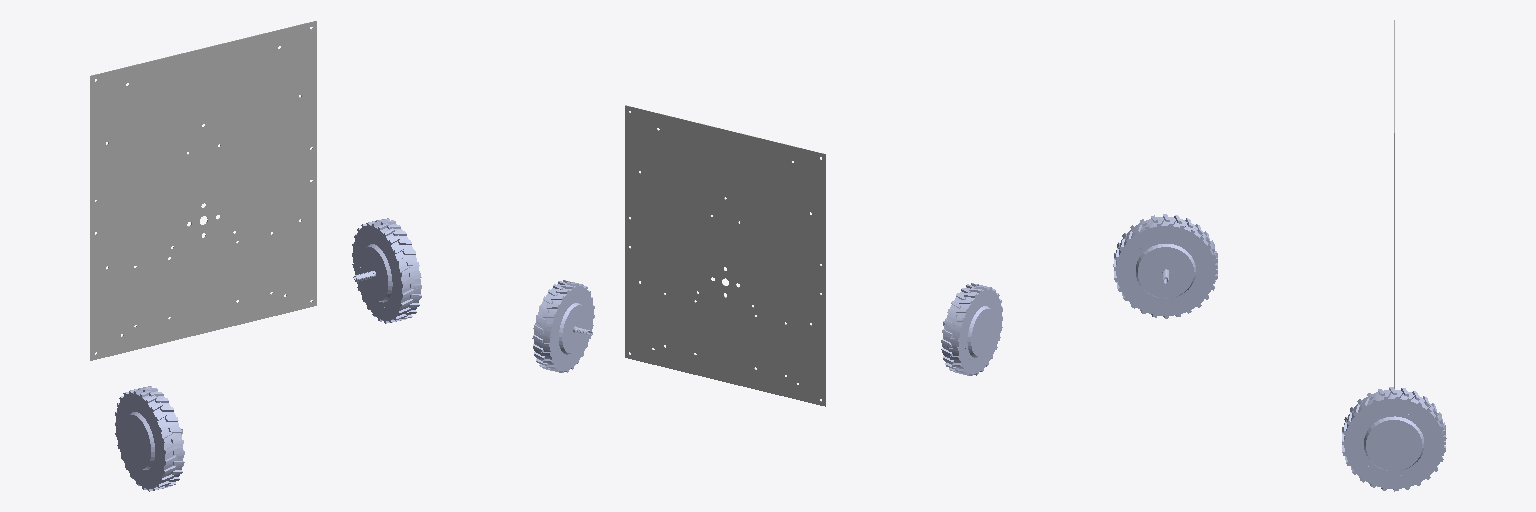
robot.urdf — mesh_test_7:
<?xml version="1.0" encoding="utf-8"?>
<!-- This URDF was automatically created by SolidWorks to URDF Exporter! Originally created by [author] ([email redacted]) 
     Commit Version: 1.6.0-4-g7f85cfe  Build Version: 1.6.7995.38578
     For more information, please see http://wiki.ros.org/sw_urdf_exporter -->
<robot
  name="mesh_test_7">
  <link
    name="base_link">
    <inertial>
      <origin
        xyz="0.000588788773926229 0.0122317358709771 -0.153898444327755"
        rpy="0 0 0" />
      <mass
        value="16.1271081482137" />
      <inertia
        ixx="0.114127397741912"
        ixy="0.00083531692981623"
        ixz="2.92573931319018E-08"
        iyy="0.104928778013587"
        iyz="-0.00077219586059954"
        izz="0.179857990541361" />
    </inertial>
    <visual>
      <origin
        xyz="0 0 0"
        rpy="0 0 0" />
      <geometry>
        <mesh
          filename="package://mesh_test_7/meshes/base_link.STL" />
      </geometry>
      <material
        name="">
        <color
          rgba="0.752941176470588 0.752941176470588 0.752941176470588 1" />
      </material>
    </visual>
    <collision>
      <origin
        xyz="0 0 0"
        rpy="0 0 0" />
      <geometry>
        <mesh
          filename="package://mesh_test_7/meshes/base_link.STL" />
      </geometry>
    </collision>
  </link>
  <link
    name="left_rear_wheel_link">
    <inertial>
      <origin
        xyz="0.000118305531412455 -5.65586319872802E-06 -2.13247584311405E-05"
        rpy="0 0 0" />
      <mass
        value="1.38515667925412" />
      <inertia
        ixx="0.00608670649415379"
        ixy="-1.30467261717638E-10"
        ixz="5.01634427641624E-08"
        iyy="0.00331734803830799"
        iyz="5.84204524782227E-11"
        izz="0.00331733096263903" />
    </inertial>
    <visual>
      <origin
        xyz="0 0 0"
        rpy="0 0 0" />
      <geometry>
        <mesh
          filename="package://mesh_test_7/meshes/left_rear_wheel_link.STL" />
      </geometry>
      <material
        name="">
        <color
          rgba="0.792156862745098 0.819607843137255 0.933333333333333 1" />
      </material>
    </visual>
    <collision>
      <origin
        xyz="0 0 0"
        rpy="0 0 0" />
      <geometry>
        <mesh
          filename="package://mesh_test_7/meshes/left_rear_wheel_link.STL" />
      </geometry>
    </collision>
  </link>
  <joint
    name="left_rear_wheel_joint"
    type="continuous">
    <origin
      xyz="-0.410080546831399 0.431805633687278 -0.266679314193787"
      rpy="0 0 0" />
    <parent
      link="base_link" />
    <child
      link="left_rear_wheel_link" />
    <axis
      xyz="-1 0 0" />
  </joint>
  <link
    name="right_rear_wheel_link">
    <inertial>
      <origin
        xyz="-0.000118305531397134 0.00763560125671886 0.0230472900127958"
        rpy="0 0 0" />
      <mass
        value="1.38515667925022" />
      <inertia
        ixx="0.00608670649414288"
        ixy="-1.51613486834789E-10"
        ixz="-5.01382976676539E-08"
        iyy="0.00331734776436555"
        iyz="-1.68192191419617E-11"
        izz="0.00331733123657076" />
    </inertial>
    <visual>
      <origin
        xyz="0 0 0"
        rpy="0 0 0" />
      <geometry>
        <mesh
          filename="package://mesh_test_7/meshes/right_rear_wheel_link.STL" />
      </geometry>
      <material
        name="">
        <color
          rgba="0.792156862745098 0.819607843137255 0.933333333333333 1" />
      </material>
    </visual>
    <collision>
      <origin
        xyz="0 0 0"
        rpy="0 0 0" />
      <geometry>
        <mesh
          filename="package://mesh_test_7/meshes/right_rear_wheel_link.STL" />
      </geometry>
    </collision>
  </link>
  <joint
    name="right_rear_wheel_joint"
    type="continuous">
    <origin
      xyz="0.410144046831401 0.424164395078577 -0.289747837637522"
      rpy="0 0 0" />
    <parent
      link="base_link" />
    <child
      link="right_rear_wheel_link" />
    <axis
      xyz="1 0 0" />
  </joint>
  <link
    name="left_middle_wheel_link">
    <inertial>
      <origin
        xyz="0.000118305531389418 -6.06477609237434E-06 -2.11493139803953E-05"
        rpy="0 0 0" />
      <mass
        value="1.38515667924975" />
      <inertia
        ixx="0.00608670649414168"
        ixy="3.79376286142206E-08"
        ixz="3.27726783483486E-08"
        iyy="0.00331733834943749"
        iyz="-8.20130896084035E-09"
        izz="0.00331734065149748" />
    </inertial>
    <visual>
      <origin
        xyz="0 0 0"
        rpy="0 0 0" />
      <geometry>
        <mesh
          filename="package://mesh_test_7/meshes/left_middle_wheel_link.STL" />
      </geometry>
      <material
        name="">
        <color
          rgba="0.792156862745098 0.819607843137255 0.933333333333333 1" />
      </material>
    </visual>
    <collision>
      <origin
        xyz="0 0 0"
        rpy="0 0 0" />
      <geometry>
        <mesh
          filename="package://mesh_test_7/meshes/left_middle_wheel_link.STL" />
      </geometry>
    </collision>
  </link>
  <joint
    name="left_middle_wheel_joint"
    type="continuous">
    <origin
      xyz="-0.410080546831395 0 -0.266679294969506"
      rpy="0 0 0" />
    <parent
      link="base_link" />
    <child
      link="left_middle_wheel_link" />
    <axis
      xyz="-1 0 0" />
  </joint>
  <link
    name="right_middle_wheel_link">
    <inertial>
      <origin
        xyz="-0.000118305531424778 0.0076351878226019 0.0230474792859071"
        rpy="0 0 0" />
      <mass
        value="1.38515667925641" />
      <inertia
        ixx="0.00608670649415985"
        ixy="-3.81060675116995E-08"
        ixz="-3.26231551854049E-08"
        iyy="0.00331733827450242"
        iyz="-8.4376695077452E-09"
        izz="0.00331734072645102" />
    </inertial>
    <visual>
      <origin
        xyz="0 0 0"
        rpy="0 0 0" />
      <geometry>
        <mesh
          filename="package://mesh_test_7/meshes/right_middle_wheel_link.STL" />
      </geometry>
      <material
        name="">
        <color
          rgba="0.792156862745098 0.819607843137255 0.933333333333333 1" />
      </material>
    </visual>
    <collision>
      <origin
        xyz="0 0 0"
        rpy="0 0 0" />
      <geometry>
        <mesh
          filename="package://mesh_test_7/meshes/right_middle_wheel_link.STL" />
      </geometry>
    </collision>
  </link>
  <joint
    name="right_middle_wheel_joint"
    type="continuous">
    <origin
      xyz="0.410144046831401 -0.00763560526423259 -0.289747837561235"
      rpy="0 0 0" />
    <parent
      link="base_link" />
    <child
      link="right_middle_wheel_link" />
    <axis
      xyz="1 0 0" />
  </joint>
  <link
    name="left_front_wheel_link">
    <inertial>
      <origin
        xyz="0.000155212043928044 -2.36124552175365E-05 4.13306403687641E-05"
        rpy="0 0 0" />
      <mass
        value="1.38515667925253" />
      <inertia
        ixx="0.00608670649414915"
        ixy="-1.51546150587952E-10"
        ixz="5.01389386245157E-08"
        iyy="0.00331734776435004"
        iyz="1.79208088882012E-11"
        izz="0.00331733123659271" />
    </inertial>
    <visual>
      <origin
        xyz="0 0 0"
        rpy="0 0 0" />
      <geometry>
        <mesh
          filename="package://mesh_test_7/meshes/left_front_wheel_link.STL" />
      </geometry>
      <material
        name="">
        <color
          rgba="0.792156862745098 0.819607843137255 0.933333333333333 1" />
      </material>
    </visual>
    <collision>
      <origin
        xyz="0 0 0"
        rpy="0 0 0" />
      <geometry>
        <mesh
          filename="package://mesh_test_7/meshes/left_front_wheel_link.STL" />
      </geometry>
    </collision>
  </link>
  <joint
    name="left_front_wheel_joint"
    type="continuous">
    <origin
      xyz="-0.372017453168602 -0.435014123947829 -0.267622490828346"
      rpy="0 0 0" />
    <parent
      link="base_link" />
    <child
      link="left_front_wheel_link" />
    <axis
      xyz="1 0 0" />
  </joint>
  <link
    name="right_front_wheel_link">
    <inertial>
      <origin
        xyz="-0.000118305531394081 0.0240239803189892 -0.0485832527049723"
        rpy="0 0 0" />
      <mass
        value="1.38515667925022" />
      <inertia
        ixx="0.0060867064941429"
        ixy="-1.5166526359855E-10"
        ixz="-5.0138297535961E-08"
        iyy="0.00331734776436552"
        iyz="-1.6836566626449E-11"
        izz="0.00331733123657081" />
    </inertial>
    <visual>
      <origin
        xyz="0 0 0"
        rpy="0 0 0" />
      <geometry>
        <mesh
          filename="package://mesh_test_7/meshes/right_front_wheel_link.STL" />
      </geometry>
      <material
        name="">
        <color
          rgba="0.792156862745098 0.819607843137255 0.933333333333333 1" />
      </material>
    </visual>
    <collision>
      <origin
        xyz="0 0 0"
        rpy="0 0 0" />
      <geometry>
        <mesh
          filename="package://mesh_test_7/meshes/right_front_wheel_link.STL" />
      </geometry>
    </collision>
  </link>
  <joint
    name="right_front_wheel_joint"
    type="continuous">
    <origin
      xyz="0.372044046831398 -0.459061618537854 -0.218998086123457"
      rpy="0 0 0" />
    <parent
      link="base_link" />
    <child
      link="right_front_wheel_link" />
    <axis
      xyz="1 0 0" />
  </joint>
</robot>

--- What the picture shows (computed from the rendered views, not written in the file) ---
The picture shows the robot from 3 angles, left to right: view 1: azimuth 30°, elevation 25°; view 2: azimuth 150°, elevation 25°; view 3: azimuth 270°, elevation 25°; orthographic projection.
Model mesh_test_7 with 7 links and 6 joints (6 continuous), rooted at base_link, posed all joints at 0.
Links seen in each view (by area): view 1: base_link, right_middle_wheel_link, left_front_wheel_link; view 2: base_link, right_middle_wheel_link, left_front_wheel_link; view 3: right_middle_wheel_link, left_front_wheel_link.
Boxes of the visible links, left/top/right/bottom form: base_link: left=90, top=21, right=316, bottom=360; right_middle_wheel_link: left=352, top=218, right=421, bottom=323; left_front_wheel_link: left=115, top=386, right=184, bottom=491; base_link: left=625, top=105, right=825, bottom=406; right_middle_wheel_link: left=532, top=280, right=594, bottom=372; left_front_wheel_link: left=941, top=283, right=1002, bottom=375; right_middle_wheel_link: left=1342, top=387, right=1446, bottom=491; left_front_wheel_link: left=1113, top=214, right=1217, bottom=318.
Bounding box of the posed robot: 0.8382 × 0.635 × 0.6724 m (x, y, z).
3 mesh visuals loaded from 7 distinct referenced files (3 binary STL); not drawn: 4 (reference not matched to a file when rendering).